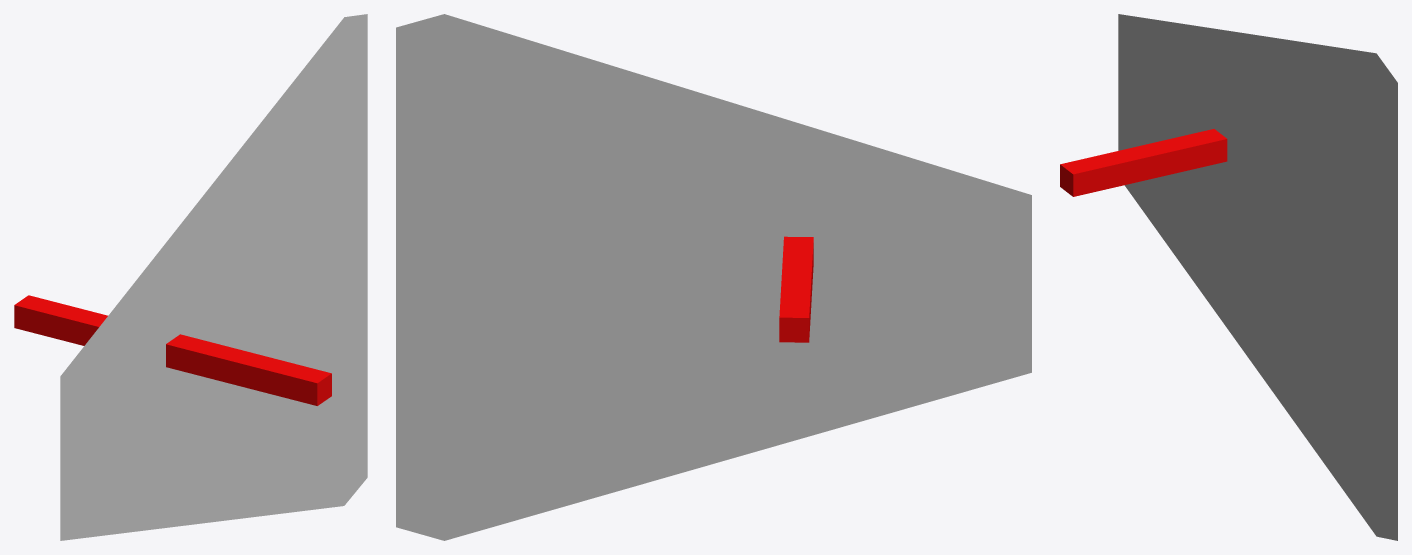
Rendered from Ames Window.fbx.
3 views of the same model, side by side, from view 1: azimuth 30°, elevation 25°; view 2: azimuth 150°, elevation 25°; view 3: azimuth 270°, elevation 25° (orthographic). The views are drawn at different scales.
Parts seen in each view (by area): view 1: Plane, Cube.001; view 2: Plane, Cube.001; view 3: Plane, Cube.001.
Part boxes in pixels (x1,y1,x2,y2): Plane: (60, 14, 367, 540); Cube.001: (14, 295, 331, 405); Plane: (396, 14, 1031, 540); Cube.001: (779, 236, 813, 342); Plane: (1118, 14, 1397, 540); Cube.001: (1060, 129, 1227, 196).
Bounding box in the file's own units: 415 × 433 × 274.
